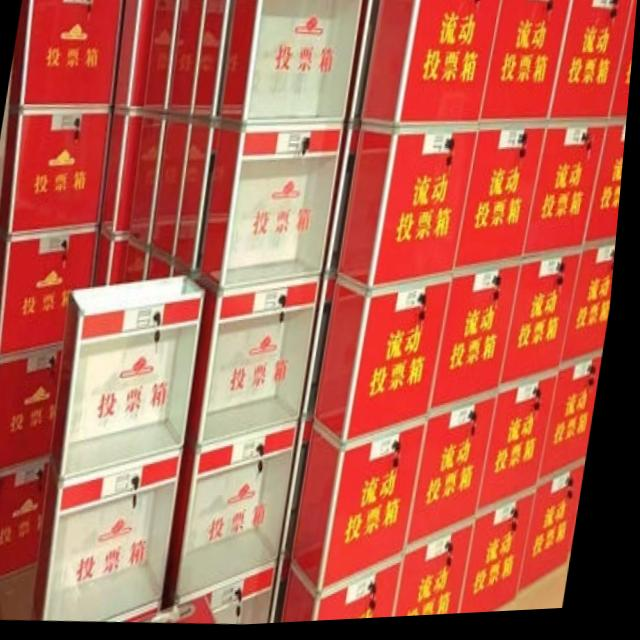box: (58, 276, 212, 480), (41, 449, 191, 624), (174, 424, 307, 606), (204, 123, 345, 290), (342, 127, 481, 294), (323, 280, 458, 449), (304, 421, 435, 595), (194, 278, 326, 450), (362, 0, 502, 129), (220, 0, 361, 125), (1, 107, 114, 234), (458, 129, 551, 280), (416, 398, 504, 554), (0, 228, 103, 359), (438, 266, 525, 419), (11, 0, 123, 111), (482, 0, 572, 131), (527, 127, 611, 263), (505, 255, 586, 391), (487, 377, 563, 521), (551, 0, 635, 129), (472, 496, 546, 619), (0, 346, 68, 477), (531, 467, 593, 597), (548, 358, 610, 488), (404, 526, 484, 622), (294, 566, 412, 626), (0, 461, 57, 583), (567, 246, 621, 370), (179, 121, 222, 274), (155, 116, 196, 264), (326, 127, 362, 280), (104, 109, 144, 241), (132, 112, 169, 250), (306, 279, 341, 423), (589, 127, 629, 251), (195, 0, 232, 119), (116, 0, 156, 109), (290, 423, 321, 557), (168, 0, 203, 117), (219, 568, 287, 626), (349, 0, 380, 125), (145, 0, 178, 112), (614, 0, 638, 128), (154, 598, 228, 626), (98, 229, 131, 286), (280, 554, 303, 626), (129, 243, 155, 281), (151, 256, 178, 280), (177, 266, 194, 277)
